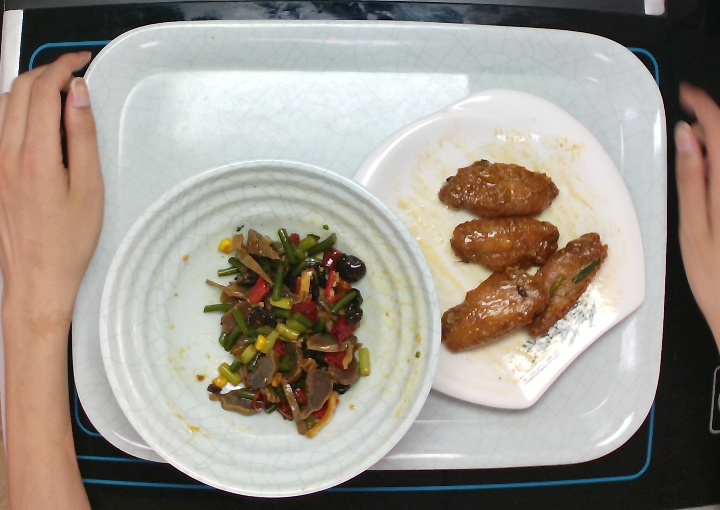JYsf-Da_Tang_Wan: (96, 151, 445, 500)
JYsf-Mian_Pan: (343, 83, 649, 414)
